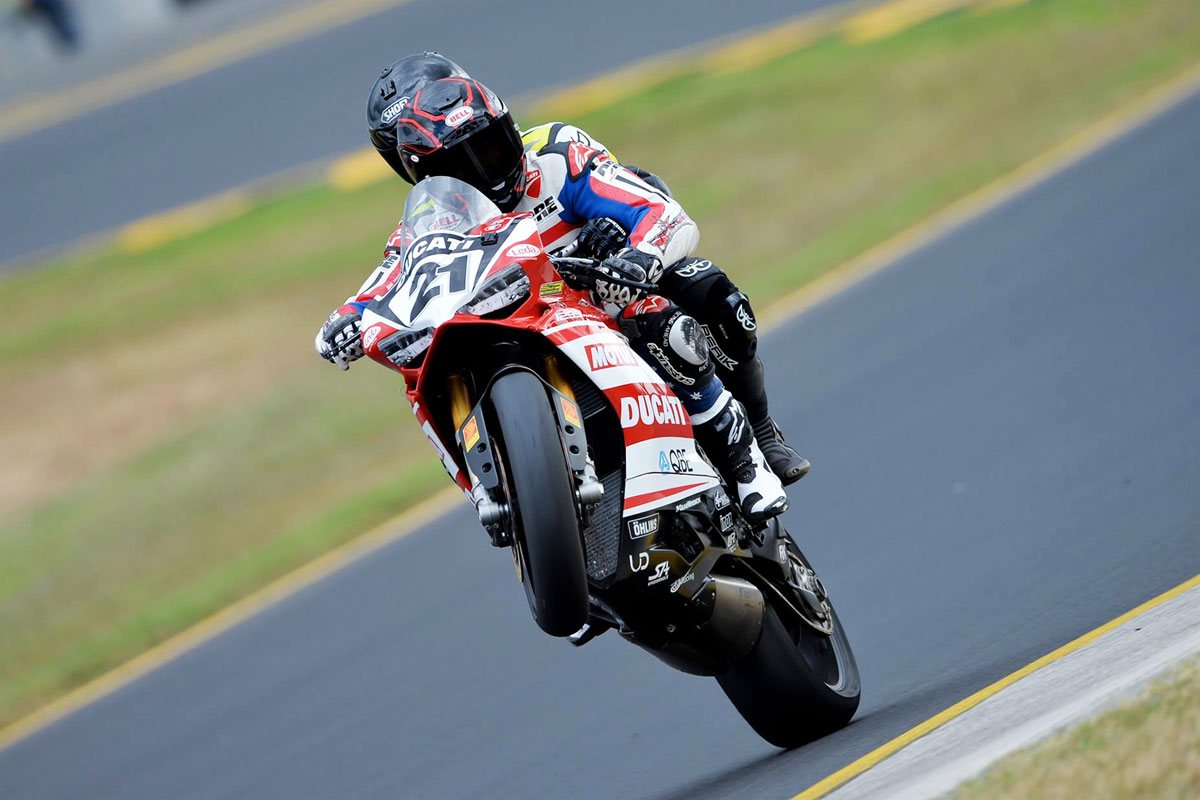helmet: (341, 44, 553, 227)
